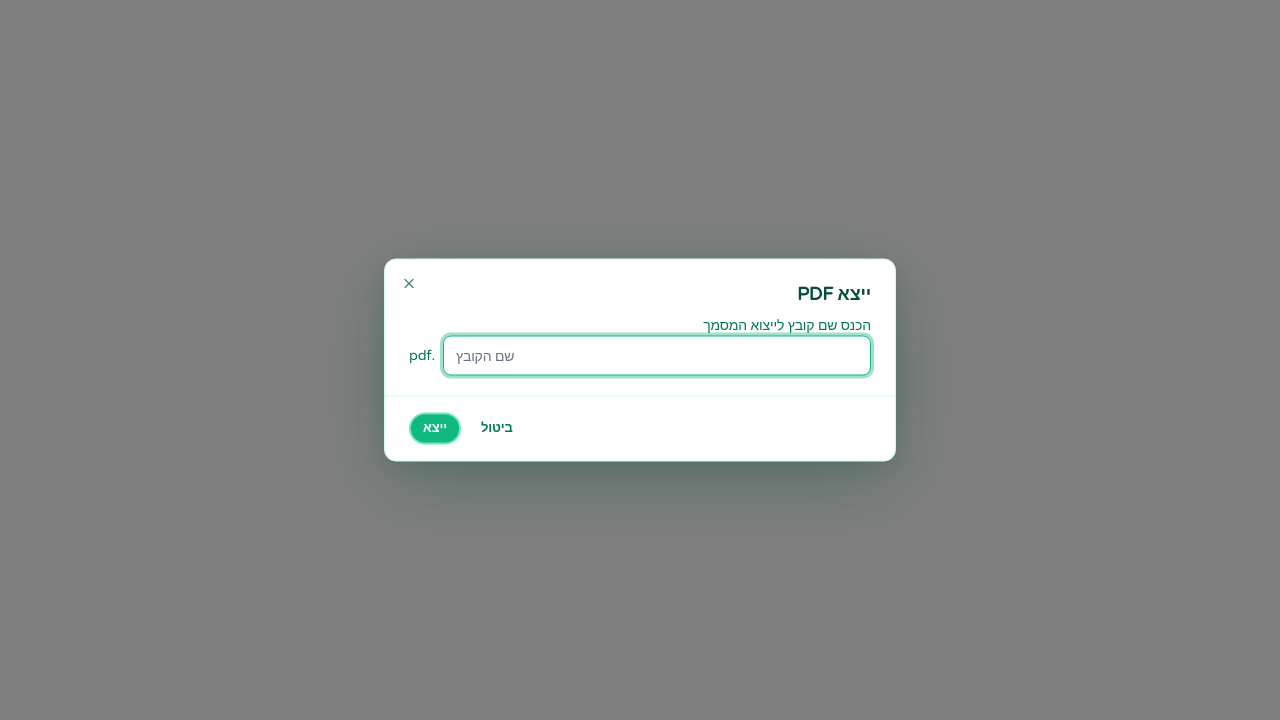
Test case: ExportModal › export button is disabled when filename is cleared to empty string
The width and height of the screenshot is (1280, 720).
Clear the field with placeholder "שם הקובץ" at x=657, y=356, box [443,336,871,376]
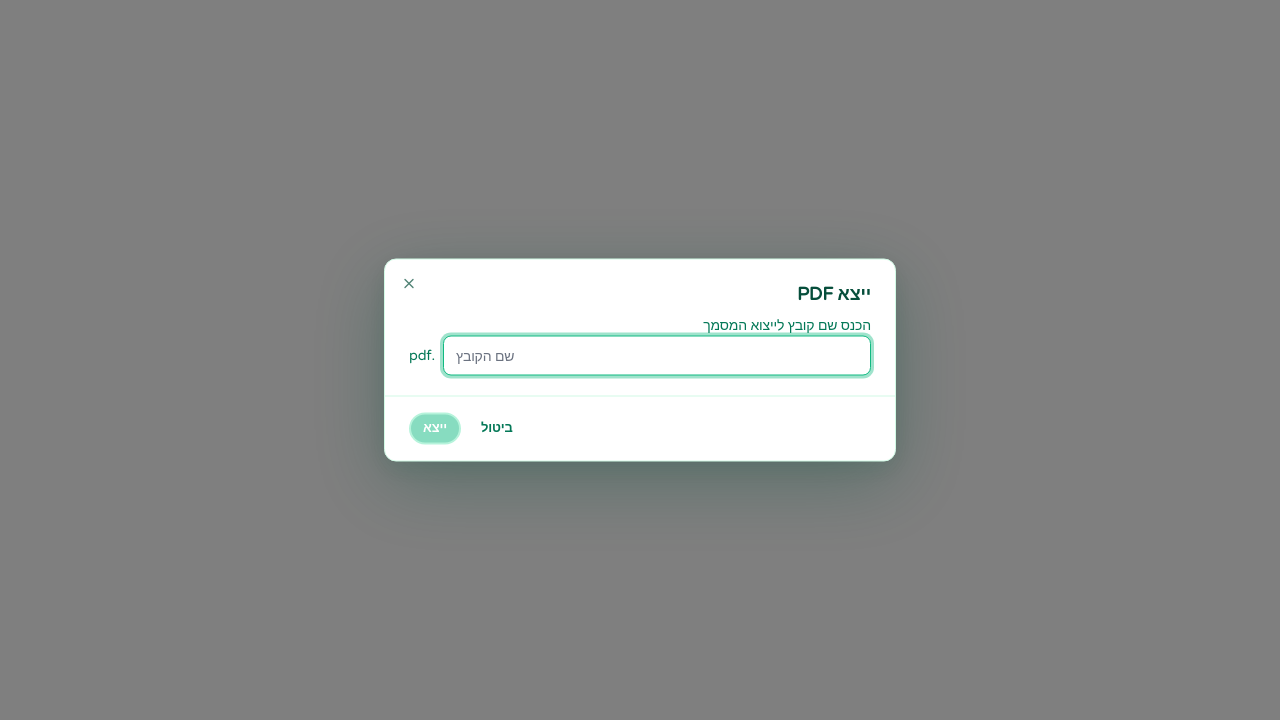
Expected: the button with aria-label "אשר ייצוא" is disabled, [409,412,461,444]
